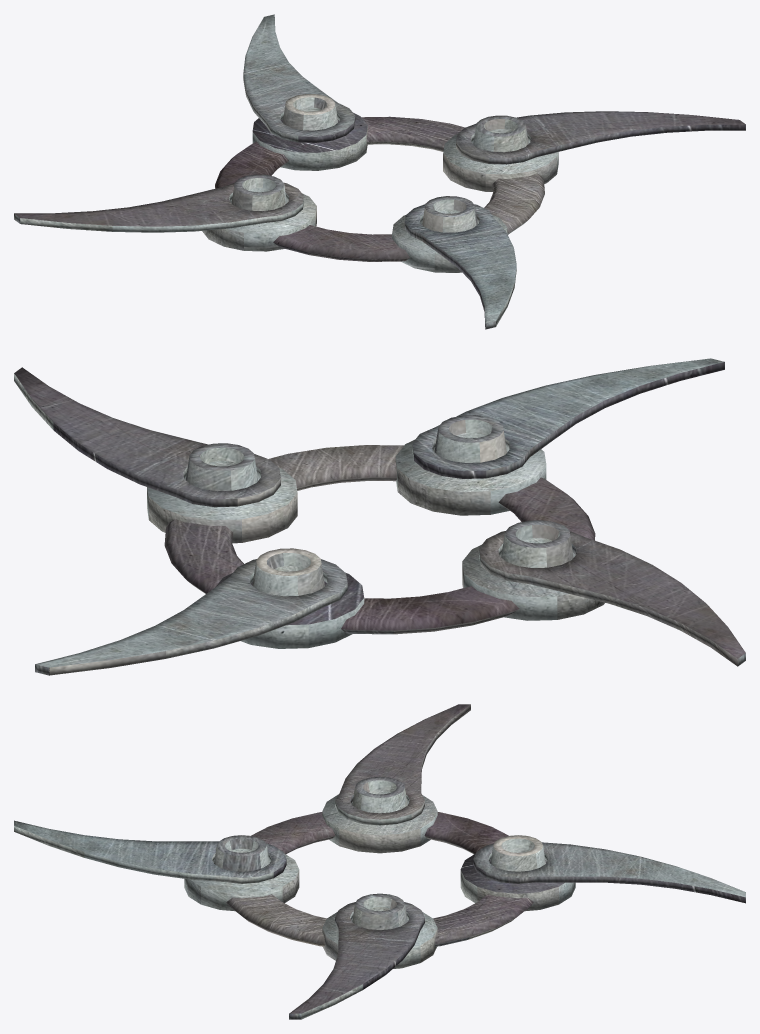
Rendered from rig.fbx.
The picture shows the model from 3 angles, top to bottom: view 1: azimuth 30°, elevation 25°; view 2: azimuth 150°, elevation 25°; view 3: azimuth 270°, elevation 25°; orthographic projection. The views are drawn at different scales.
Parts seen in each view (by area): view 1: Blade.004; view 2: Blade.004; view 3: Blade.004.
Part boxes in pixels (x1,y1,x2,y2): Blade.004: [14, 14, 745, 329]; Blade.004: [14, 358, 745, 675]; Blade.004: [14, 704, 745, 1019].
Bounding box in the file's own units: 2.32 × 0.1455 × 2.32.
